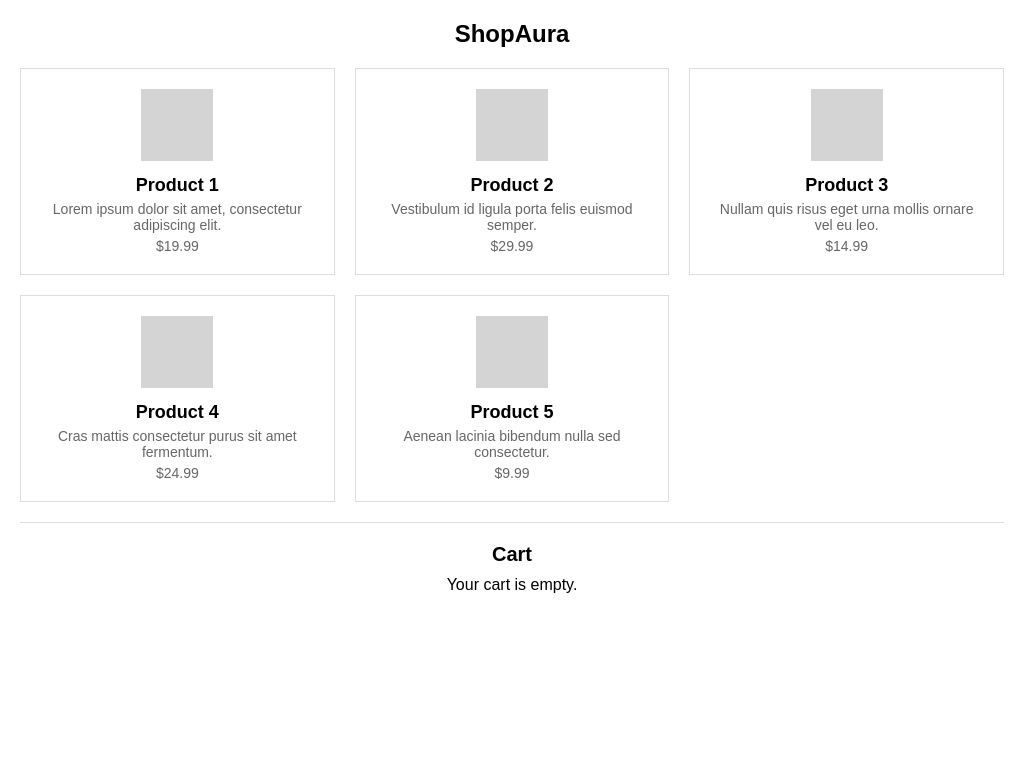
Test: app › adds_a_product_to_the_cart_when_add_to_cart_is_clicked › adds_product_1_to_the_cart_when_add_to_cart_is_clicked
Click the heading "Product 1" at point(177, 185), box 136,175 -> 219,195
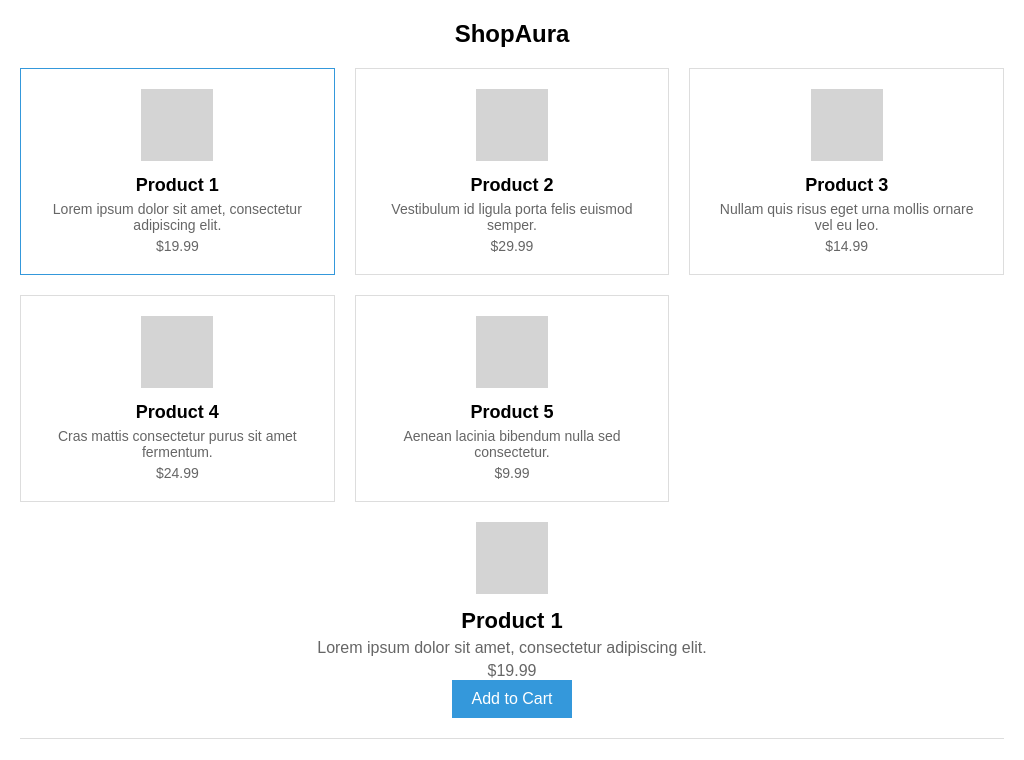
Click the button "Add to Cart" at point(512, 699), box 452,680 -> 572,718
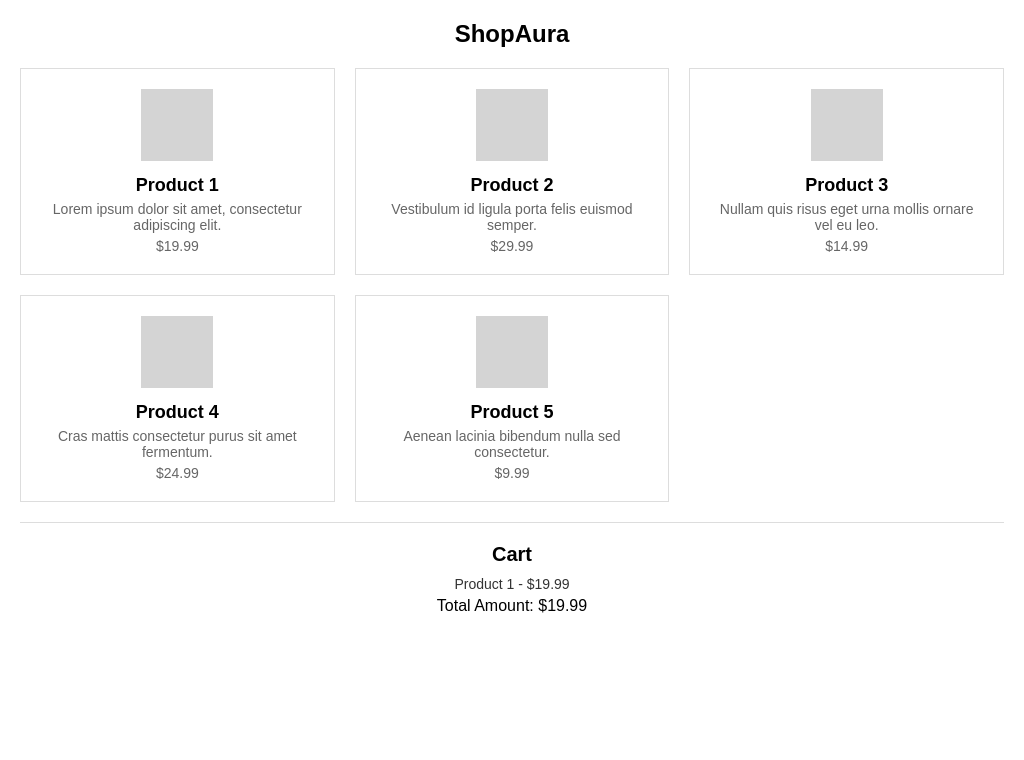
Expected: the list item "Product 1 - $19.99" is shown, 454,576 -> 570,592
